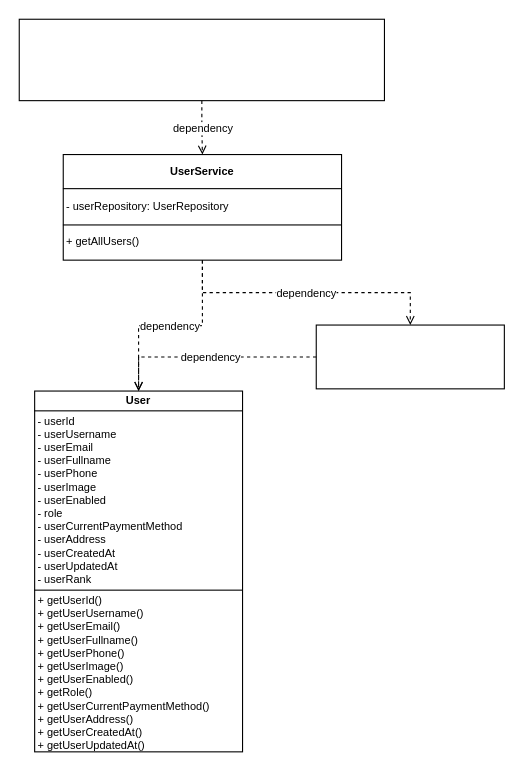
Some shapes in this 524 by 771 pixel diagram are drawn without their labels. Here are the shapes that lost their labels. From the top down, the centre of each, then its label:
(x=201, y=59): AuthRestController - userService: UserService
(x=409, y=356): UserRepository + findAll()
